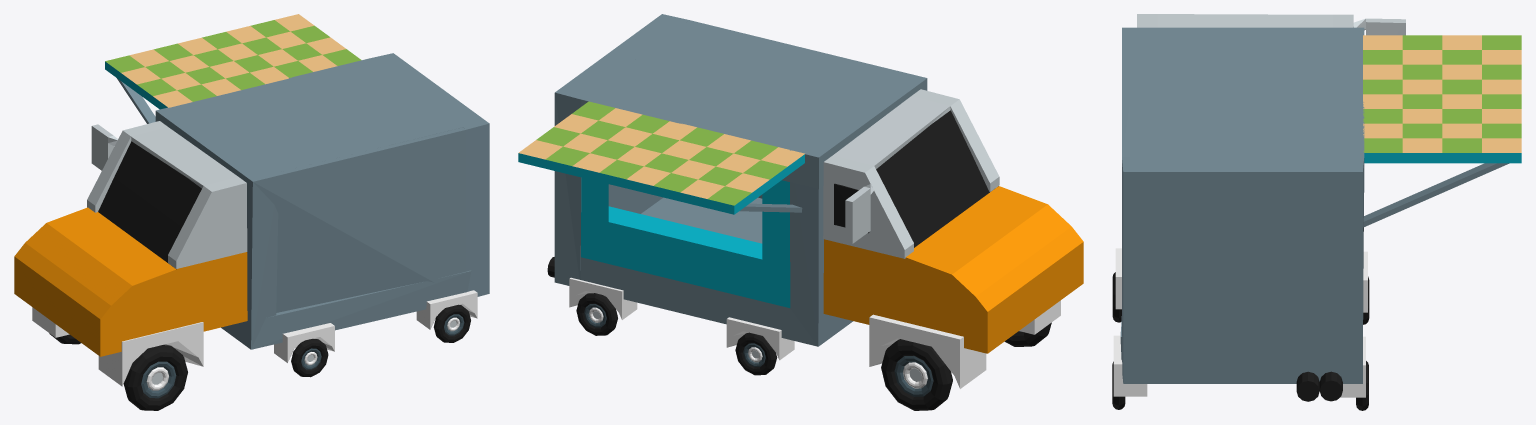
The model's file is FoodTruck.fbx.
3 renders of one model, left to right at view 1: azimuth 30°, elevation 25°; view 2: azimuth 150°, elevation 25°; view 3: azimuth 270°, elevation 25°, orthographic. The views are drawn at different scales.
Parts seen in each view (by area): view 1: mesh_934729322, mesh_572770700, mesh_1086031423, mesh_1891252473, mesh_1709927739, mesh_1434556701, mesh_959526367, mesh_944767584, group_965558297, mesh_567284715, mesh_1825844925, mesh_368228645 (+7 smaller); view 2: mesh_934729322, mesh_1086031423, mesh_1891252473, mesh_346295656, mesh_959526367, mesh_1709927739, mesh_1434556701, mesh_368228645, group_1808298422, mesh_567284715, mesh_2088504716, mesh_551125605 (+11 smaller); view 3: mesh_1434556701, mesh_1086031423, mesh_1891252473, mesh_1709927739, mesh_567284715, mesh_239368340, mesh_572770700, mesh_436816632, mesh_884443619, mesh_2146076598, mesh_24178565, mesh_938269490 (+1 smaller).
Part boxes in pixels (bbox=[...]): mesh_934729322: bbox=[14, 141, 247, 356]; mesh_572770700: bbox=[253, 127, 465, 312]; mesh_1086031423: bbox=[155, 58, 462, 207]; mesh_1891252473: bbox=[105, 14, 361, 109]; mesh_1709927739: bbox=[172, 104, 278, 349]; mesh_1434556701: bbox=[369, 53, 489, 296]; mesh_959526367: bbox=[251, 270, 471, 349]; mesh_944767584: bbox=[168, 177, 247, 268]; group_965558297: bbox=[123, 345, 187, 410]; mesh_567284715: bbox=[131, 127, 237, 188]; mesh_1825844925: bbox=[98, 322, 203, 386]; mesh_368228645: bbox=[87, 121, 167, 212]; mesh_934729322: bbox=[823, 110, 1083, 353]; mesh_1086031423: bbox=[581, 23, 923, 188]; mesh_1891252473: bbox=[518, 101, 804, 214]; mesh_346295656: bbox=[608, 206, 790, 301]; mesh_959526367: bbox=[580, 197, 817, 346]; mesh_1709927739: bbox=[790, 71, 927, 346]; mesh_1434556701: bbox=[554, 14, 689, 285]; mesh_368228645: bbox=[823, 155, 913, 258]; group_1808298422: bbox=[881, 339, 952, 410]; mesh_567284715: bbox=[833, 96, 950, 168]; mesh_2088504716: bbox=[869, 314, 986, 388]; mesh_551125605: bbox=[762, 184, 790, 307]; mesh_1434556701: bbox=[1122, 157, 1364, 383]; mesh_1086031423: bbox=[1130, 27, 1364, 192]; mesh_1891252473: bbox=[1363, 35, 1521, 163]; mesh_1709927739: bbox=[1122, 27, 1362, 43]; mesh_567284715: bbox=[1157, 14, 1332, 27]; mesh_239368340: bbox=[1363, 163, 1509, 226]; mesh_572770700: bbox=[1122, 43, 1130, 157]; mesh_436816632: bbox=[1113, 335, 1147, 396]; mesh_884443619: bbox=[1366, 18, 1405, 35]; mesh_2146076598: bbox=[1296, 371, 1319, 401]; mesh_24178565: bbox=[1319, 371, 1342, 401]; mesh_938269490: bbox=[1340, 336, 1365, 397].
Bounding box in the file's own units: 743 × 379 × 530.
